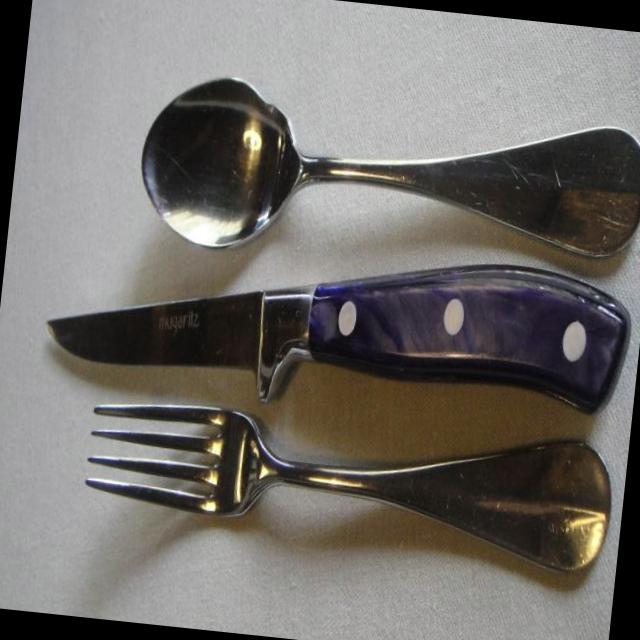Knife: (48, 264, 629, 413)
